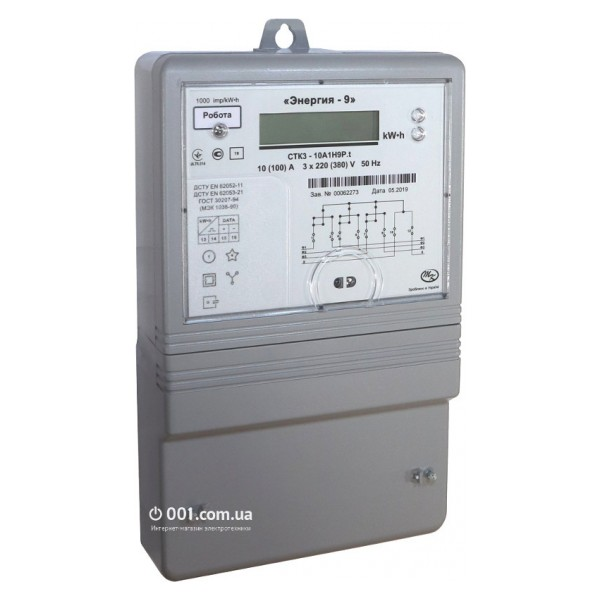counter: (148, 41, 462, 546)
counter_screen: (254, 106, 381, 149)
